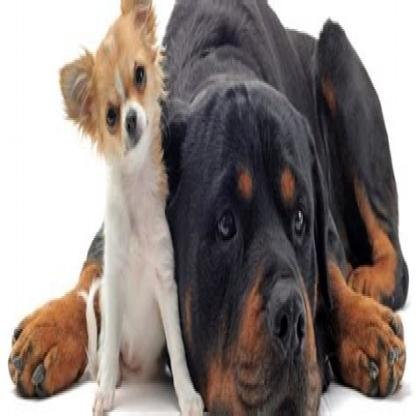dog: (157, 1, 413, 405), (58, 1, 192, 409)
